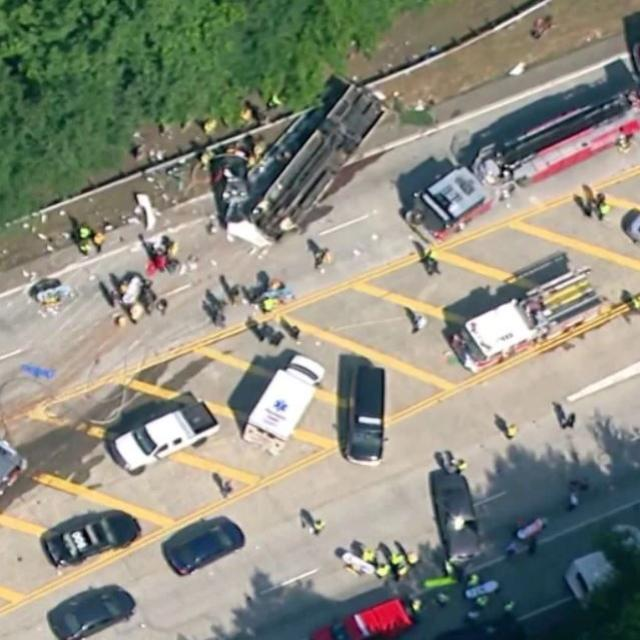traffic_incident: (191, 61, 387, 247)
